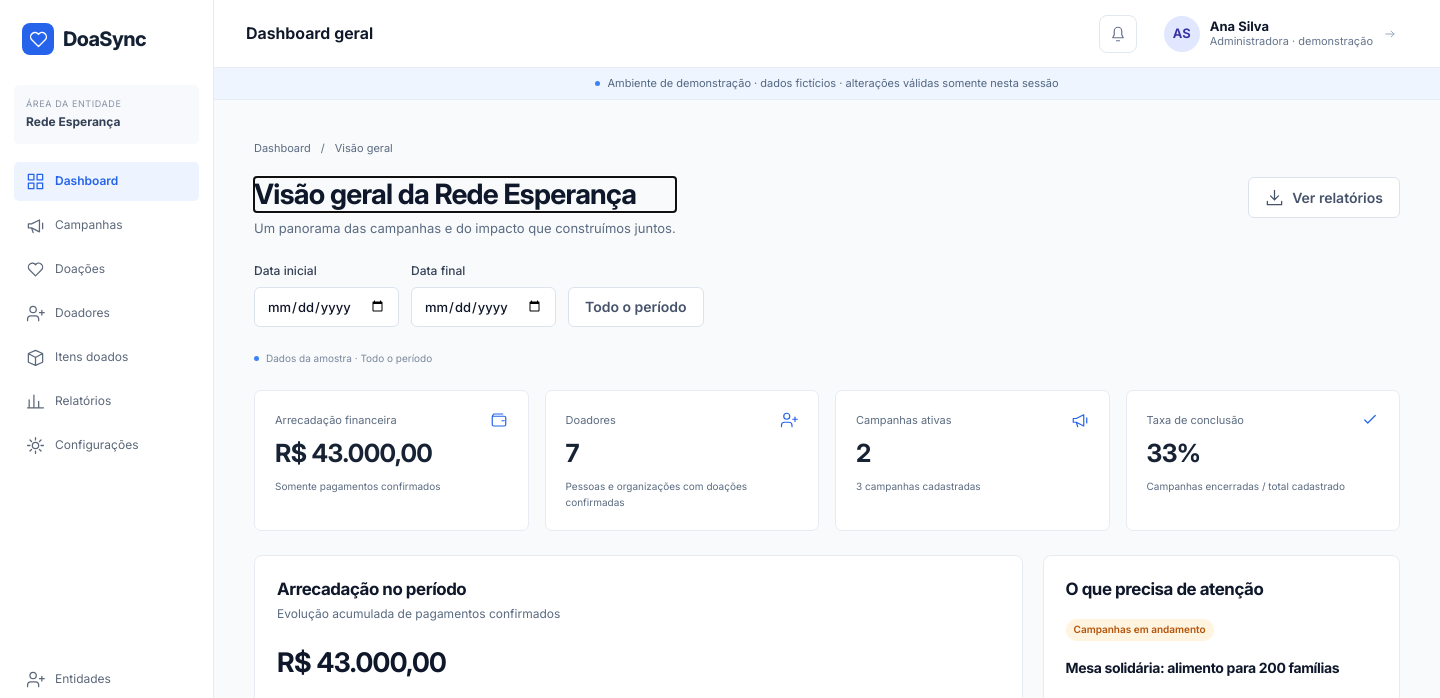
Test: Layout e componentes compartilhados › renderiza o layout administrativo com sidebar, topo e perfil na área de gestão
Expected: the heading "Visão geral da Rede Esperança" is shown, top-left (254, 177), bottom-right (676, 212)
Expected: the navigation bar named "Navegação administrativa" is shown, top-left (14, 162), bottom-right (199, 464)
Click the button with aria-label "Perfil do usuário e ações comuns" at (1280, 34), box top-left (1153, 8), bottom-right (1408, 58)
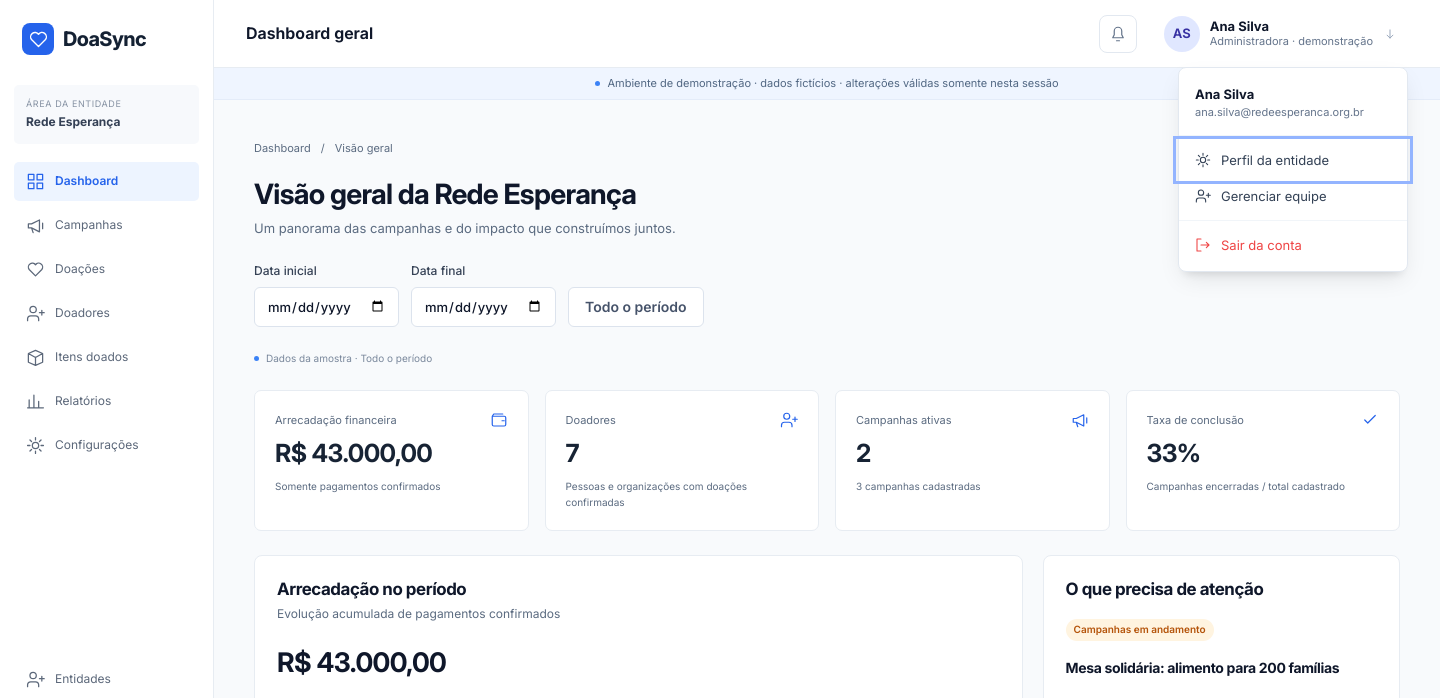
Expected: the button with aria-label "Perfil do usuário e ações comuns" is expanded, top-left (1153, 8), bottom-right (1408, 58)
Expected: the menu item "Perfil da entidade" is shown, top-left (1195, 152), bottom-right (1329, 168)
Expected: the menu item "Sair da conta" is shown, top-left (1195, 237), bottom-right (1302, 253)
Note: Fecha menu com tecla Escape
Press Escape
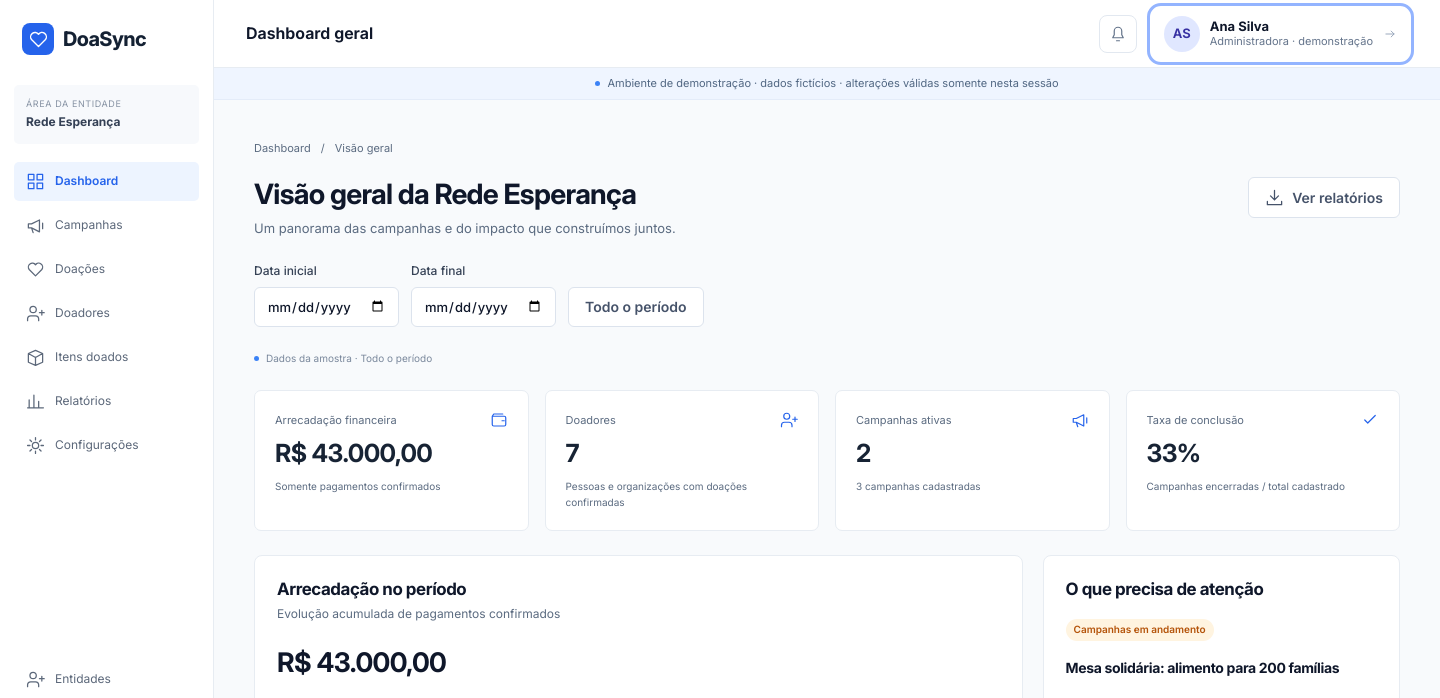
Expected: the button with aria-label "Perfil do usuário e ações comuns" is collapsed, top-left (1153, 8), bottom-right (1408, 58)
